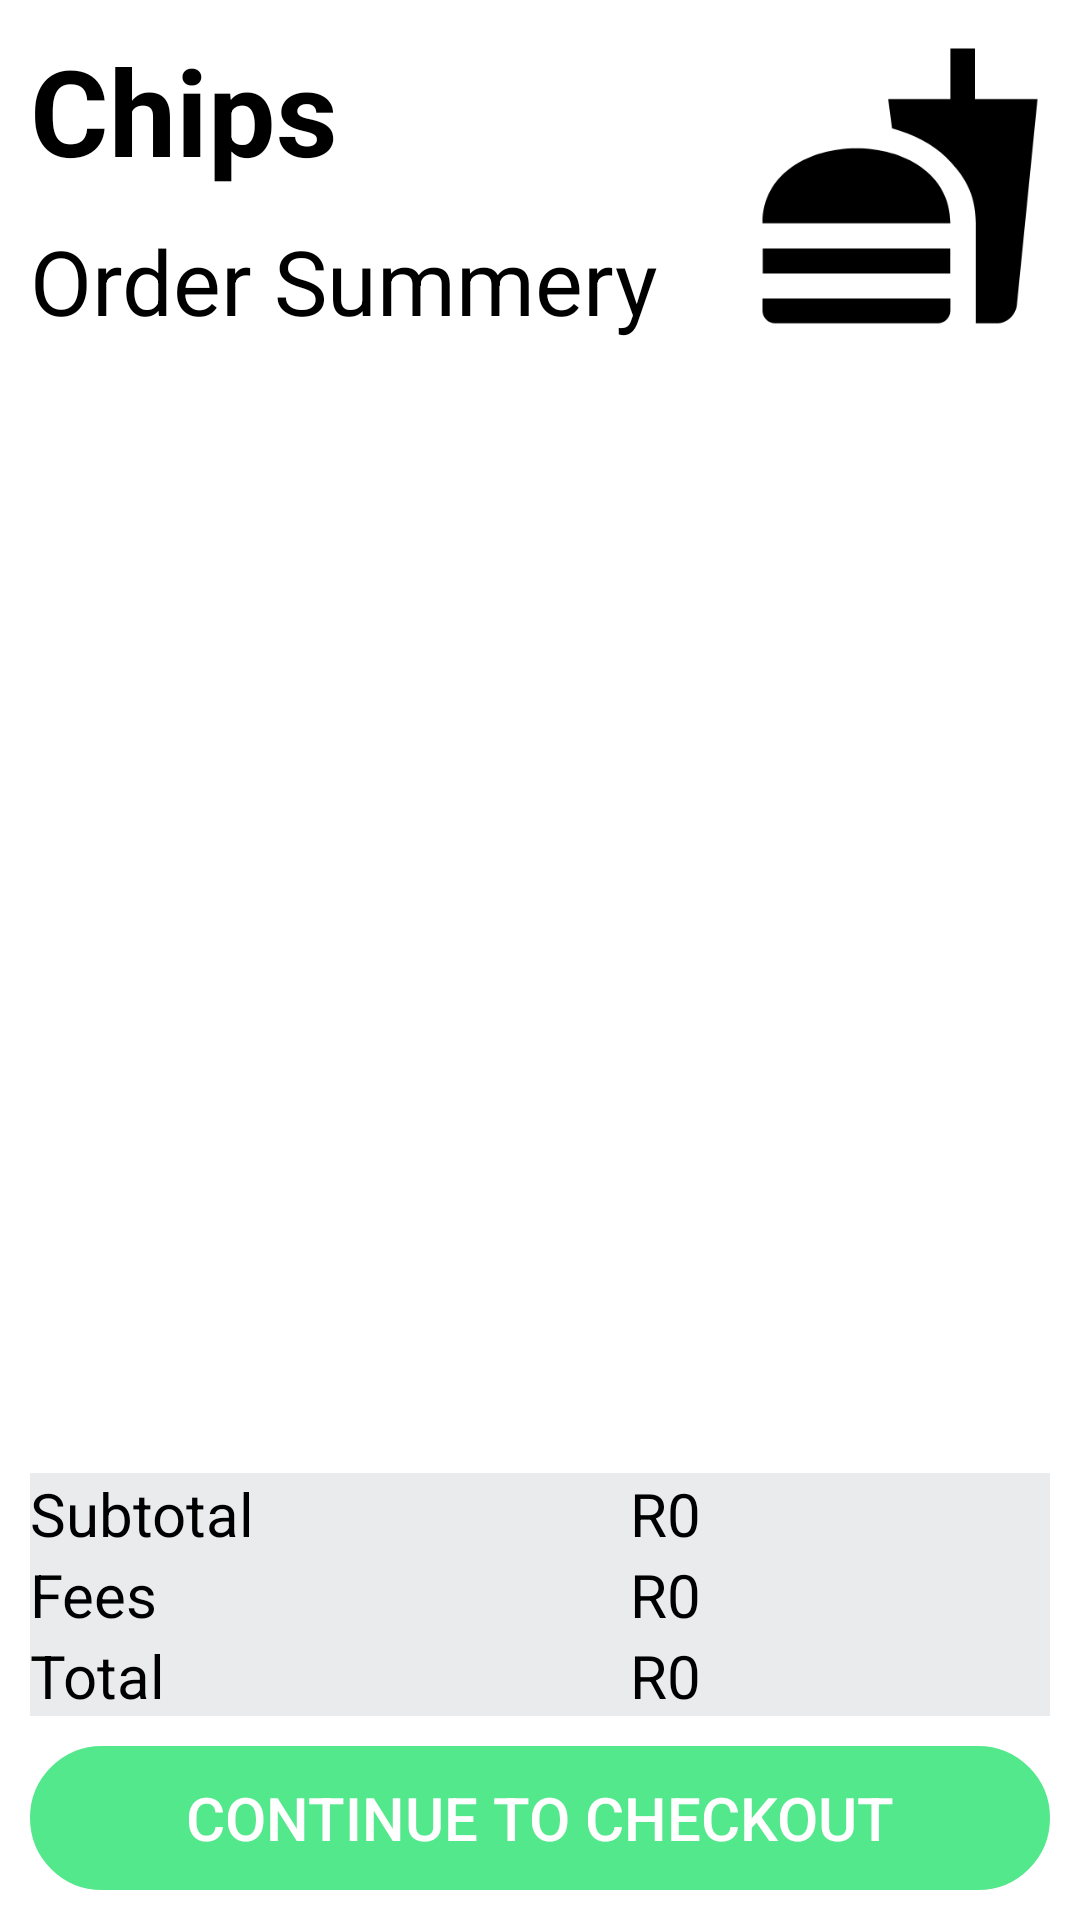

Screen size 1080×1920. Icon name, then its center in pixels as point (x, y):
fastfood: point (900, 186)
